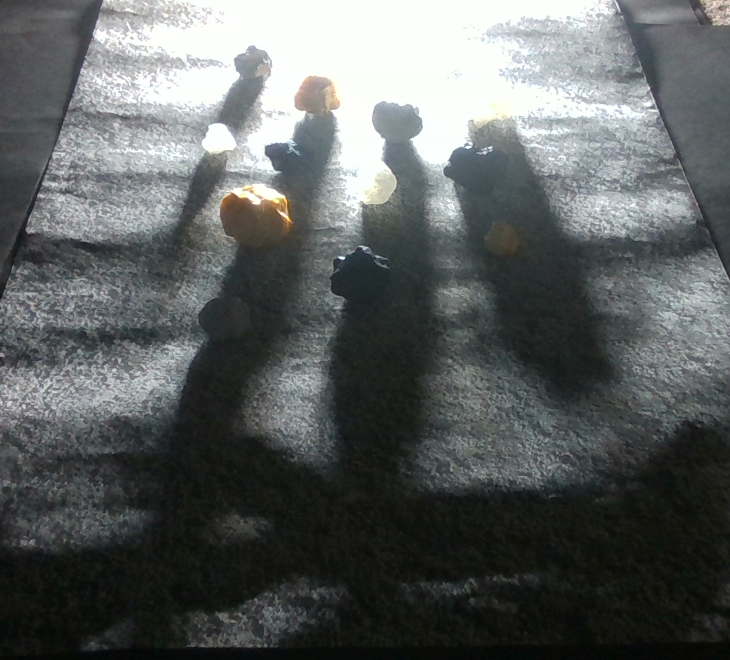anorthosite: (449, 72, 519, 128), (357, 163, 396, 206), (204, 123, 237, 156)
basalt: (443, 143, 511, 196), (330, 246, 391, 304), (199, 295, 251, 343), (264, 139, 316, 177)
metal: (219, 185, 291, 248), (293, 66, 341, 117), (484, 219, 519, 257)
regolith: (372, 98, 423, 144), (233, 42, 276, 80)
